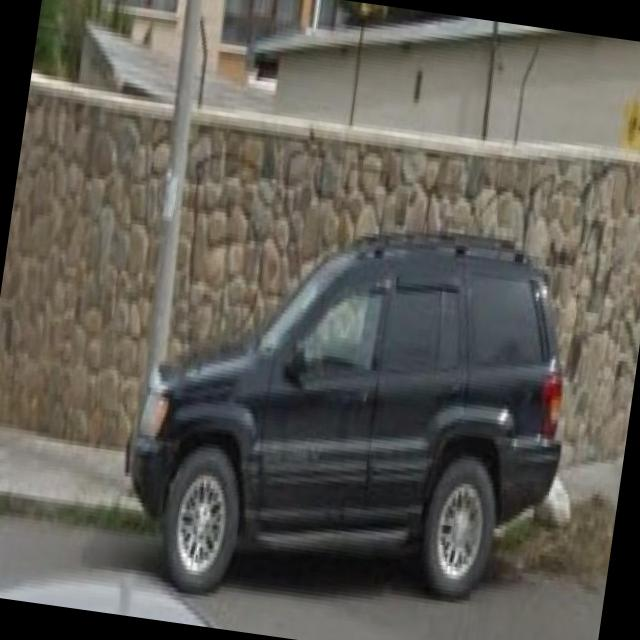car: (112, 178, 598, 640)
